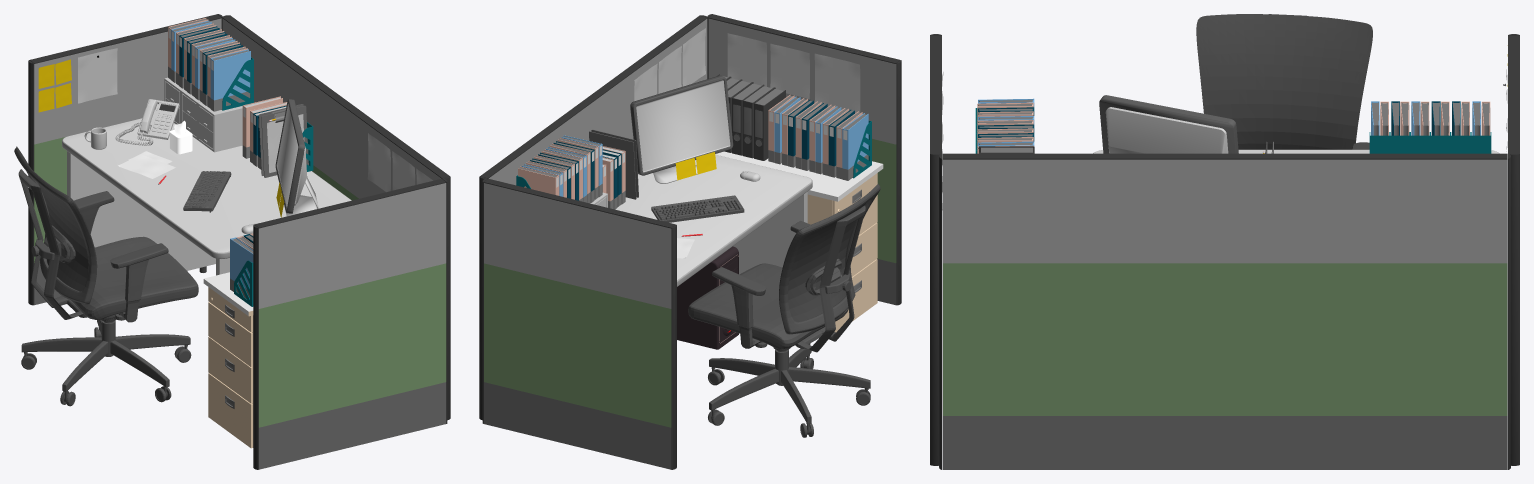
The model's file is office_desk.glb.
3 renders of one model, left to right at view 1: azimuth 30°, elevation 25°; view 2: azimuth 150°, elevation 25°; view 3: azimuth 270°, elevation 25°, orthographic. The views are drawn at different scales.
Parts seen in each view (by area): view 1: partition1228A4_StaticMeshComponent0.002, Officechair1228C6_StaticMeshComponent0, deskoffice1228A6_StaticMeshComponent0, partition1228A4_StaticMeshComponent0.001, partition1228A4_StaticMeshComponent0, drawer1228C6_StaticMeshComponent0, documents1228J2_StaticMeshComponent0, documents1228H12_StaticMeshComponent0, monitor1228A6_StaticMeshComponent0, drawer1228D18_StaticMeshComponent0, Notepaper1228D10_StaticMeshComponent0, telephone1228A6_StaticMeshComponent0 (+9 smaller); view 2: partition1228A4_StaticMeshComponent0.001, Officechair1228C6_StaticMeshComponent0, deskoffice1228A6_StaticMeshComponent0, partition1228A4_StaticMeshComponent0.002, monitor1228A6_StaticMeshComponent0, partition1228A4_StaticMeshComponent0, documents1228J4_458_StaticMeshComponent0, drawer1228C6_StaticMeshComponent0, documents1228J2_StaticMeshComponent0, documents1228F_455_StaticMeshComponent0, desktop1228A3_StaticMeshComponent0, documents1228H12_StaticMeshComponent0 (+7 smaller); view 3: partition1228A4_StaticMeshComponent0, Officechair1228C6_StaticMeshComponent0, monitor1228A6_StaticMeshComponent0, documents1228J2_StaticMeshComponent0, partition1228A4_StaticMeshComponent0.002, partition1228A4_StaticMeshComponent0.001, documents1228J4_458_StaticMeshComponent0, deskoffice1228A6_StaticMeshComponent0.
Part boxes in pixels (x1=…): partition1228A4_StaticMeshComponent0.002: x1=253, y1=178, x2=447, y2=469; Officechair1228C6_StaticMeshComponent0: x1=14, y1=146, x2=198, y2=406; deskoffice1228A6_StaticMeshComponent0: x1=62, y1=118, x2=351, y2=275; partition1228A4_StaticMeshComponent0.001: x1=28, y1=14, x2=222, y2=305; partition1228A4_StaticMeshComponent0: x1=222, y1=15, x2=450, y2=420; drawer1228C6_StaticMeshComponent0: x1=203, y1=272, x2=253, y2=448; documents1228J2_StaticMeshComponent0: x1=168, y1=18, x2=253, y2=111; documents1228H12_StaticMeshComponent0: x1=242, y1=96, x2=313, y2=177; monitor1228A6_StaticMeshComponent0: x1=275, y1=99, x2=318, y2=216; drawer1228D18_StaticMeshComponent0: x1=197, y1=102, x2=242, y2=152; Notepaper1228D10_StaticMeshComponent0: x1=78, y1=48, x2=117, y2=103; telephone1228A6_StaticMeshComponent0: x1=115, y1=99, x2=179, y2=145; partition1228A4_StaticMeshComponent0.001: x1=482, y1=178, x2=676, y2=469; Officechair1228C6_StaticMeshComponent0: x1=688, y1=183, x2=880, y2=437; deskoffice1228A6_StaticMeshComponent0: x1=615, y1=154, x2=812, y2=286; partition1228A4_StaticMeshComponent0.002: x1=707, y1=14, x2=901, y2=305; monitor1228A6_StaticMeshComponent0: x1=630, y1=75, x2=733, y2=183; partition1228A4_StaticMeshComponent0: x1=479, y1=15, x2=707, y2=420; documents1228J4_458_StaticMeshComponent0: x1=768, y1=94, x2=871, y2=180; drawer1228C6_StaticMeshComponent0: x1=715, y1=151, x2=883, y2=332; documents1228J2_StaticMeshComponent0: x1=516, y1=135, x2=602, y2=203; documents1228F_455_StaticMeshComponent0: x1=716, y1=74, x2=785, y2=160; desktop1228A3_StaticMeshComponent0: x1=677, y1=246, x2=738, y2=349; documents1228H12_StaticMeshComponent0: x1=589, y1=129, x2=638, y2=209; partition1228A4_StaticMeshComponent0: x1=939, y1=153, x2=1510, y2=469; Officechair1228C6_StaticMeshComponent0: x1=1196, y1=14, x2=1372, y2=149; monitor1228A6_StaticMeshComponent0: x1=1099, y1=95, x2=1238, y2=153; documents1228J2_StaticMeshComponent0: x1=1369, y1=101, x2=1491, y2=153; partition1228A4_StaticMeshComponent0.002: x1=930, y1=34, x2=941, y2=465; partition1228A4_StaticMeshComponent0.001: x1=1508, y1=34, x2=1519, y2=465; documents1228J4_458_StaticMeshComponent0: x1=975, y1=98, x2=1034, y2=153; deskoffice1228A6_StaticMeshComponent0: x1=1093, y1=149, x2=1499, y2=153.
Size of the model in its own units: 1.61 by 1.33 by 2.18.
